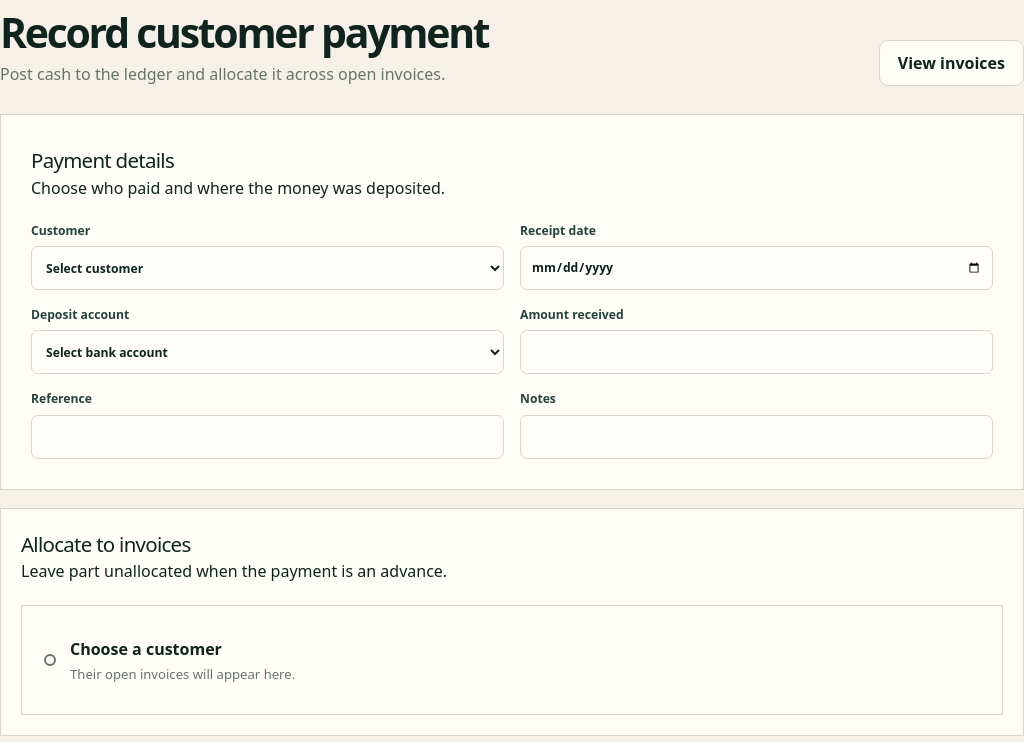
Test case: Day 4 receipt allocation › blocks an allocation above the invoice outstanding amount
The image size is (1024, 742).
Select "CUS-001 - Himalayan Trek Supplies Pvt. Ltd." in the dropdown labelled "Customer" at (268, 268), box [31, 246, 504, 290]
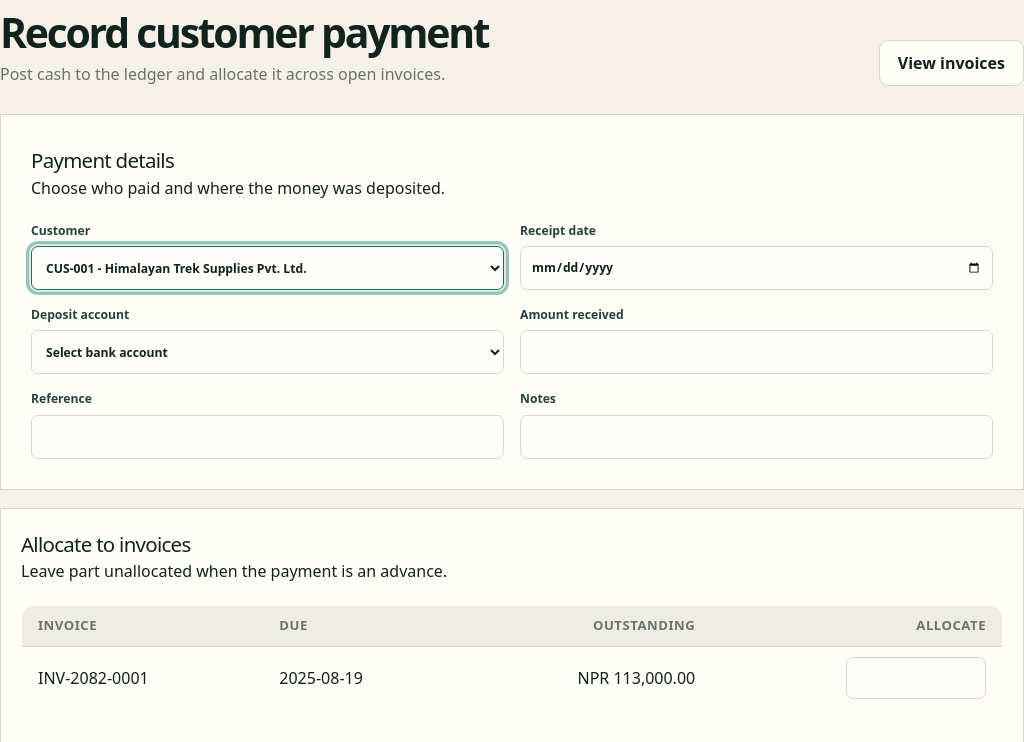
Type "120000.00" into the field labelled "Amount received" at (756, 352), box [520, 330, 993, 374]
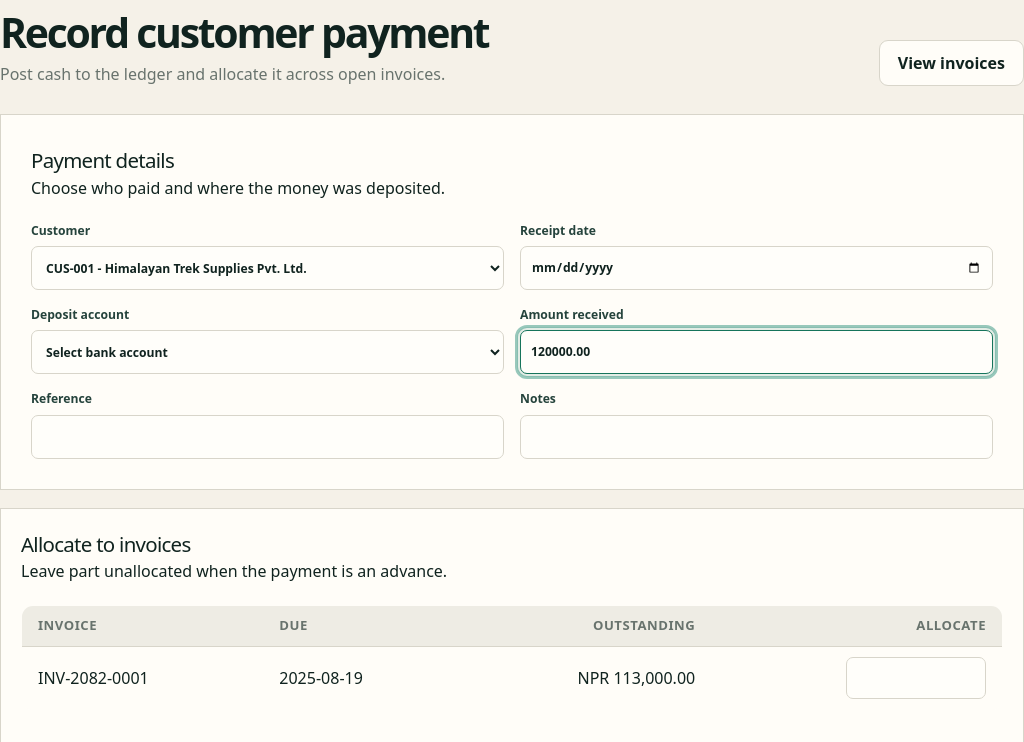
Type "114000.00" into the field named "Allocate to INV-2082-0001" at (916, 678), box [846, 657, 986, 699]
(page scrolled)
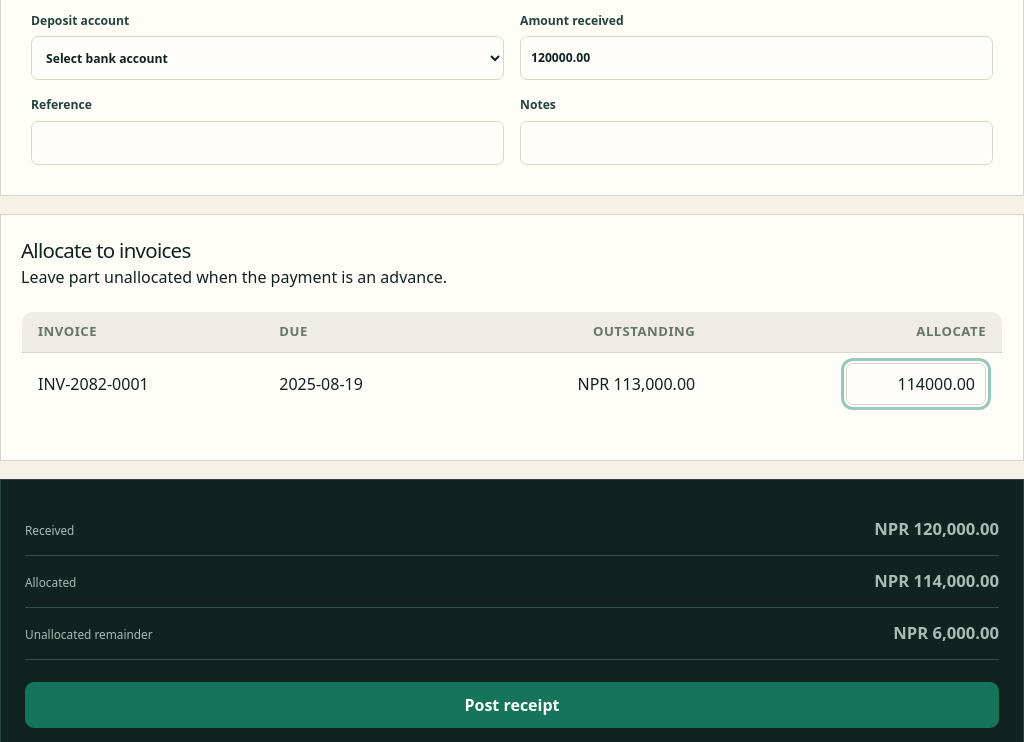
Click the button "Post receipt" at (512, 705), box [25, 682, 999, 728]
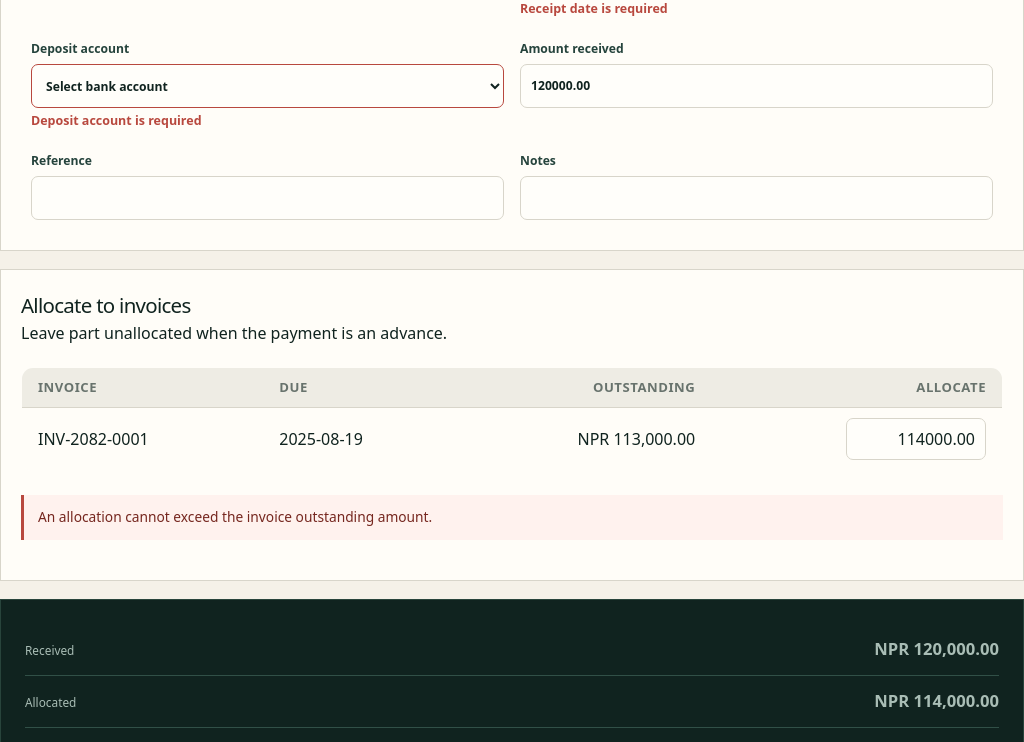
Check: the text "An allocation cannot exceed the invoice outstanding amount." is shown, box [21, 496, 1003, 540]
